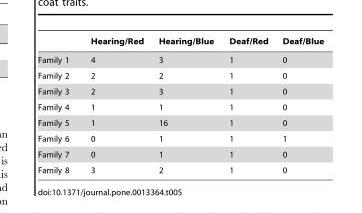table: (37, 36, 323, 174)
table column: (79, 36, 150, 174), (150, 36, 220, 174), (220, 36, 274, 174), (274, 36, 323, 174), (37, 36, 79, 174)
table column header: (37, 36, 323, 50)
table row: (37, 50, 323, 67), (37, 67, 323, 83), (37, 83, 323, 99), (37, 114, 323, 130), (37, 130, 323, 146), (37, 146, 323, 162), (37, 99, 323, 114), (37, 36, 323, 50), (37, 162, 323, 174)
